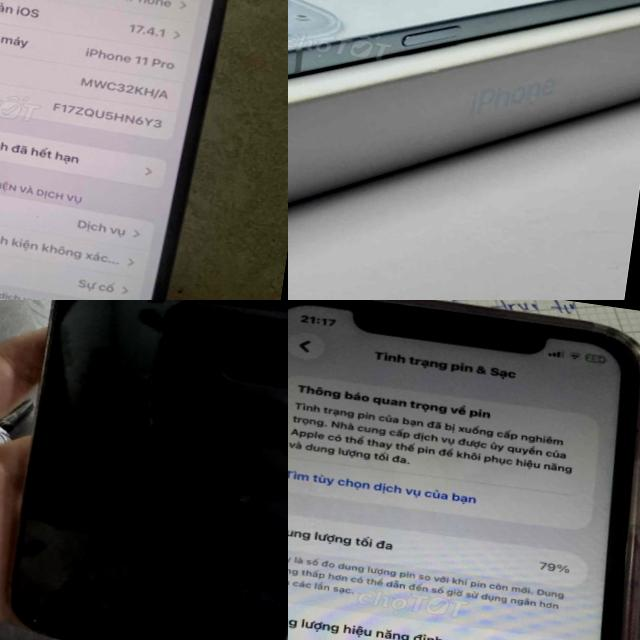gen_11: (288, 300, 640, 640), (0, 300, 288, 640), (0, 0, 250, 300)
gen_15: (288, 0, 640, 142)
physical_damage: (6, 596, 61, 640)
